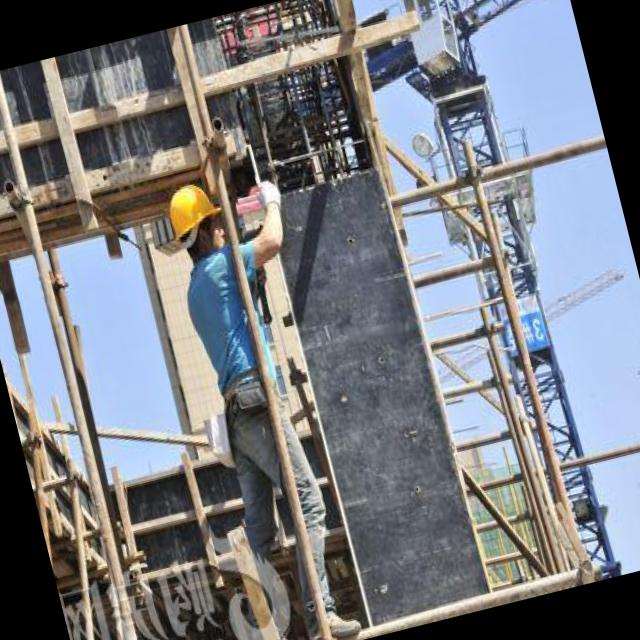helmet: (156, 173, 230, 267)
